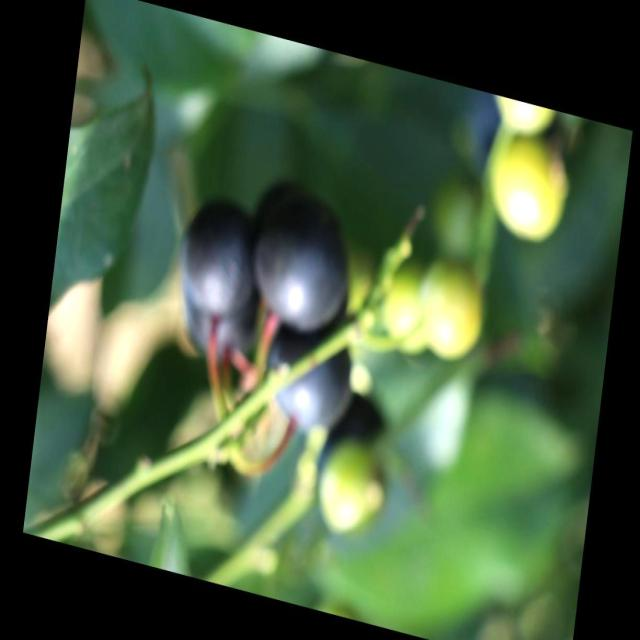blueberry: (247, 190, 351, 338), (172, 194, 260, 323), (264, 313, 351, 438), (187, 287, 260, 375)
blueberry-unripe: (488, 141, 564, 249), (313, 438, 387, 540), (416, 264, 484, 367)
